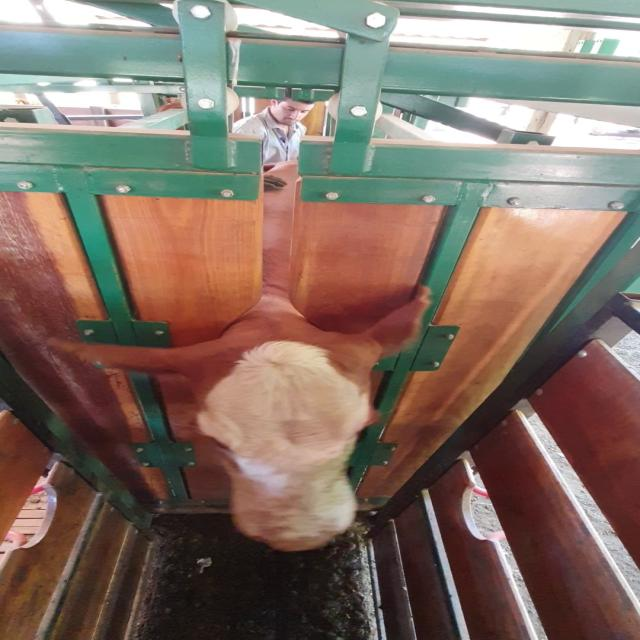cowFace: (201, 332, 378, 550)
